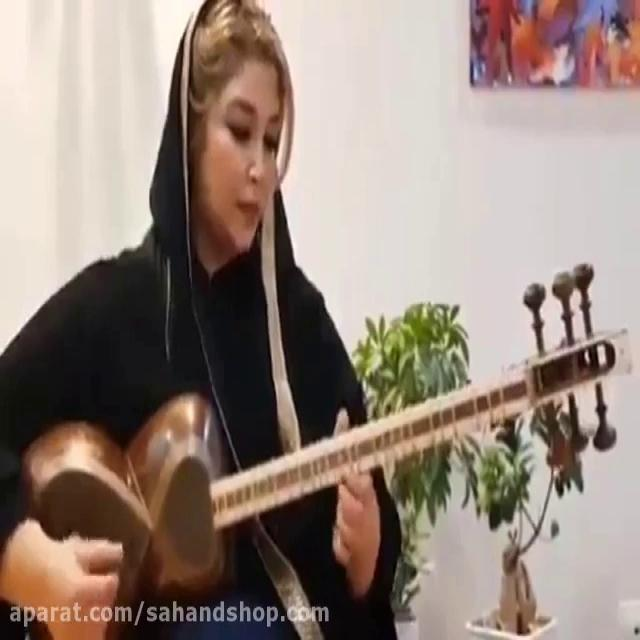Santur: (22, 289, 635, 639)
